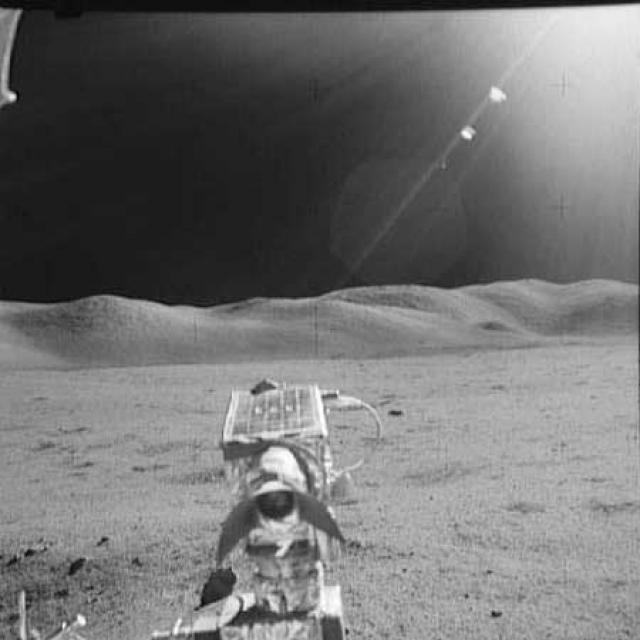artifact: (150, 372, 386, 638), (0, 4, 30, 114)
crater: (167, 466, 232, 494), (43, 418, 89, 440)
